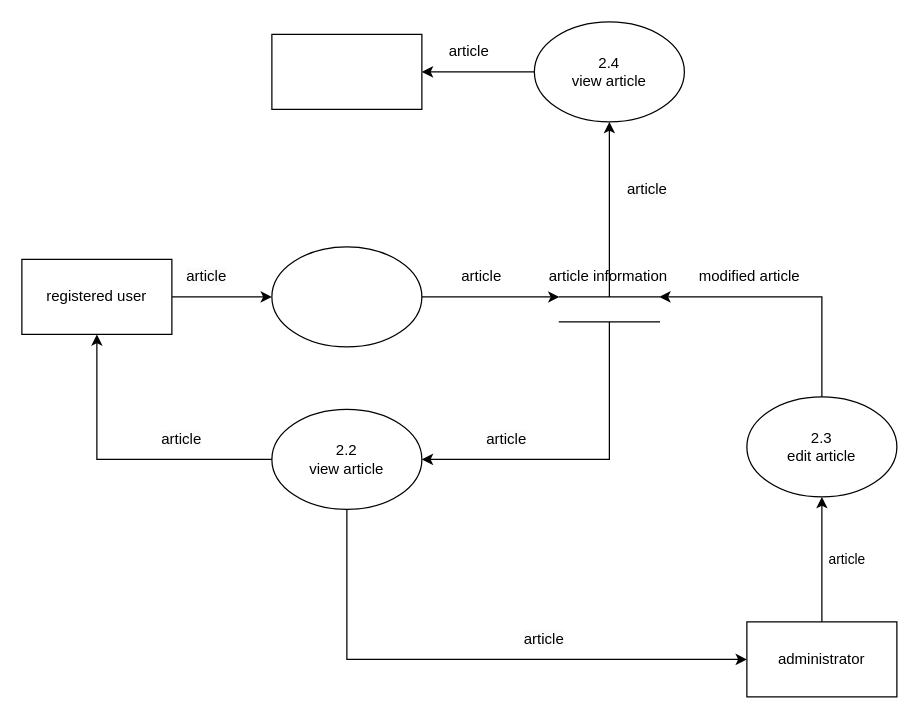
This 919x719 diagram has some shape labels left out. Here are the shapes that lost their labels. From the top down, the box of each, then its label:
(271, 33, 422, 109): non-registered user
(271, 246, 422, 347): 2,1 write article
